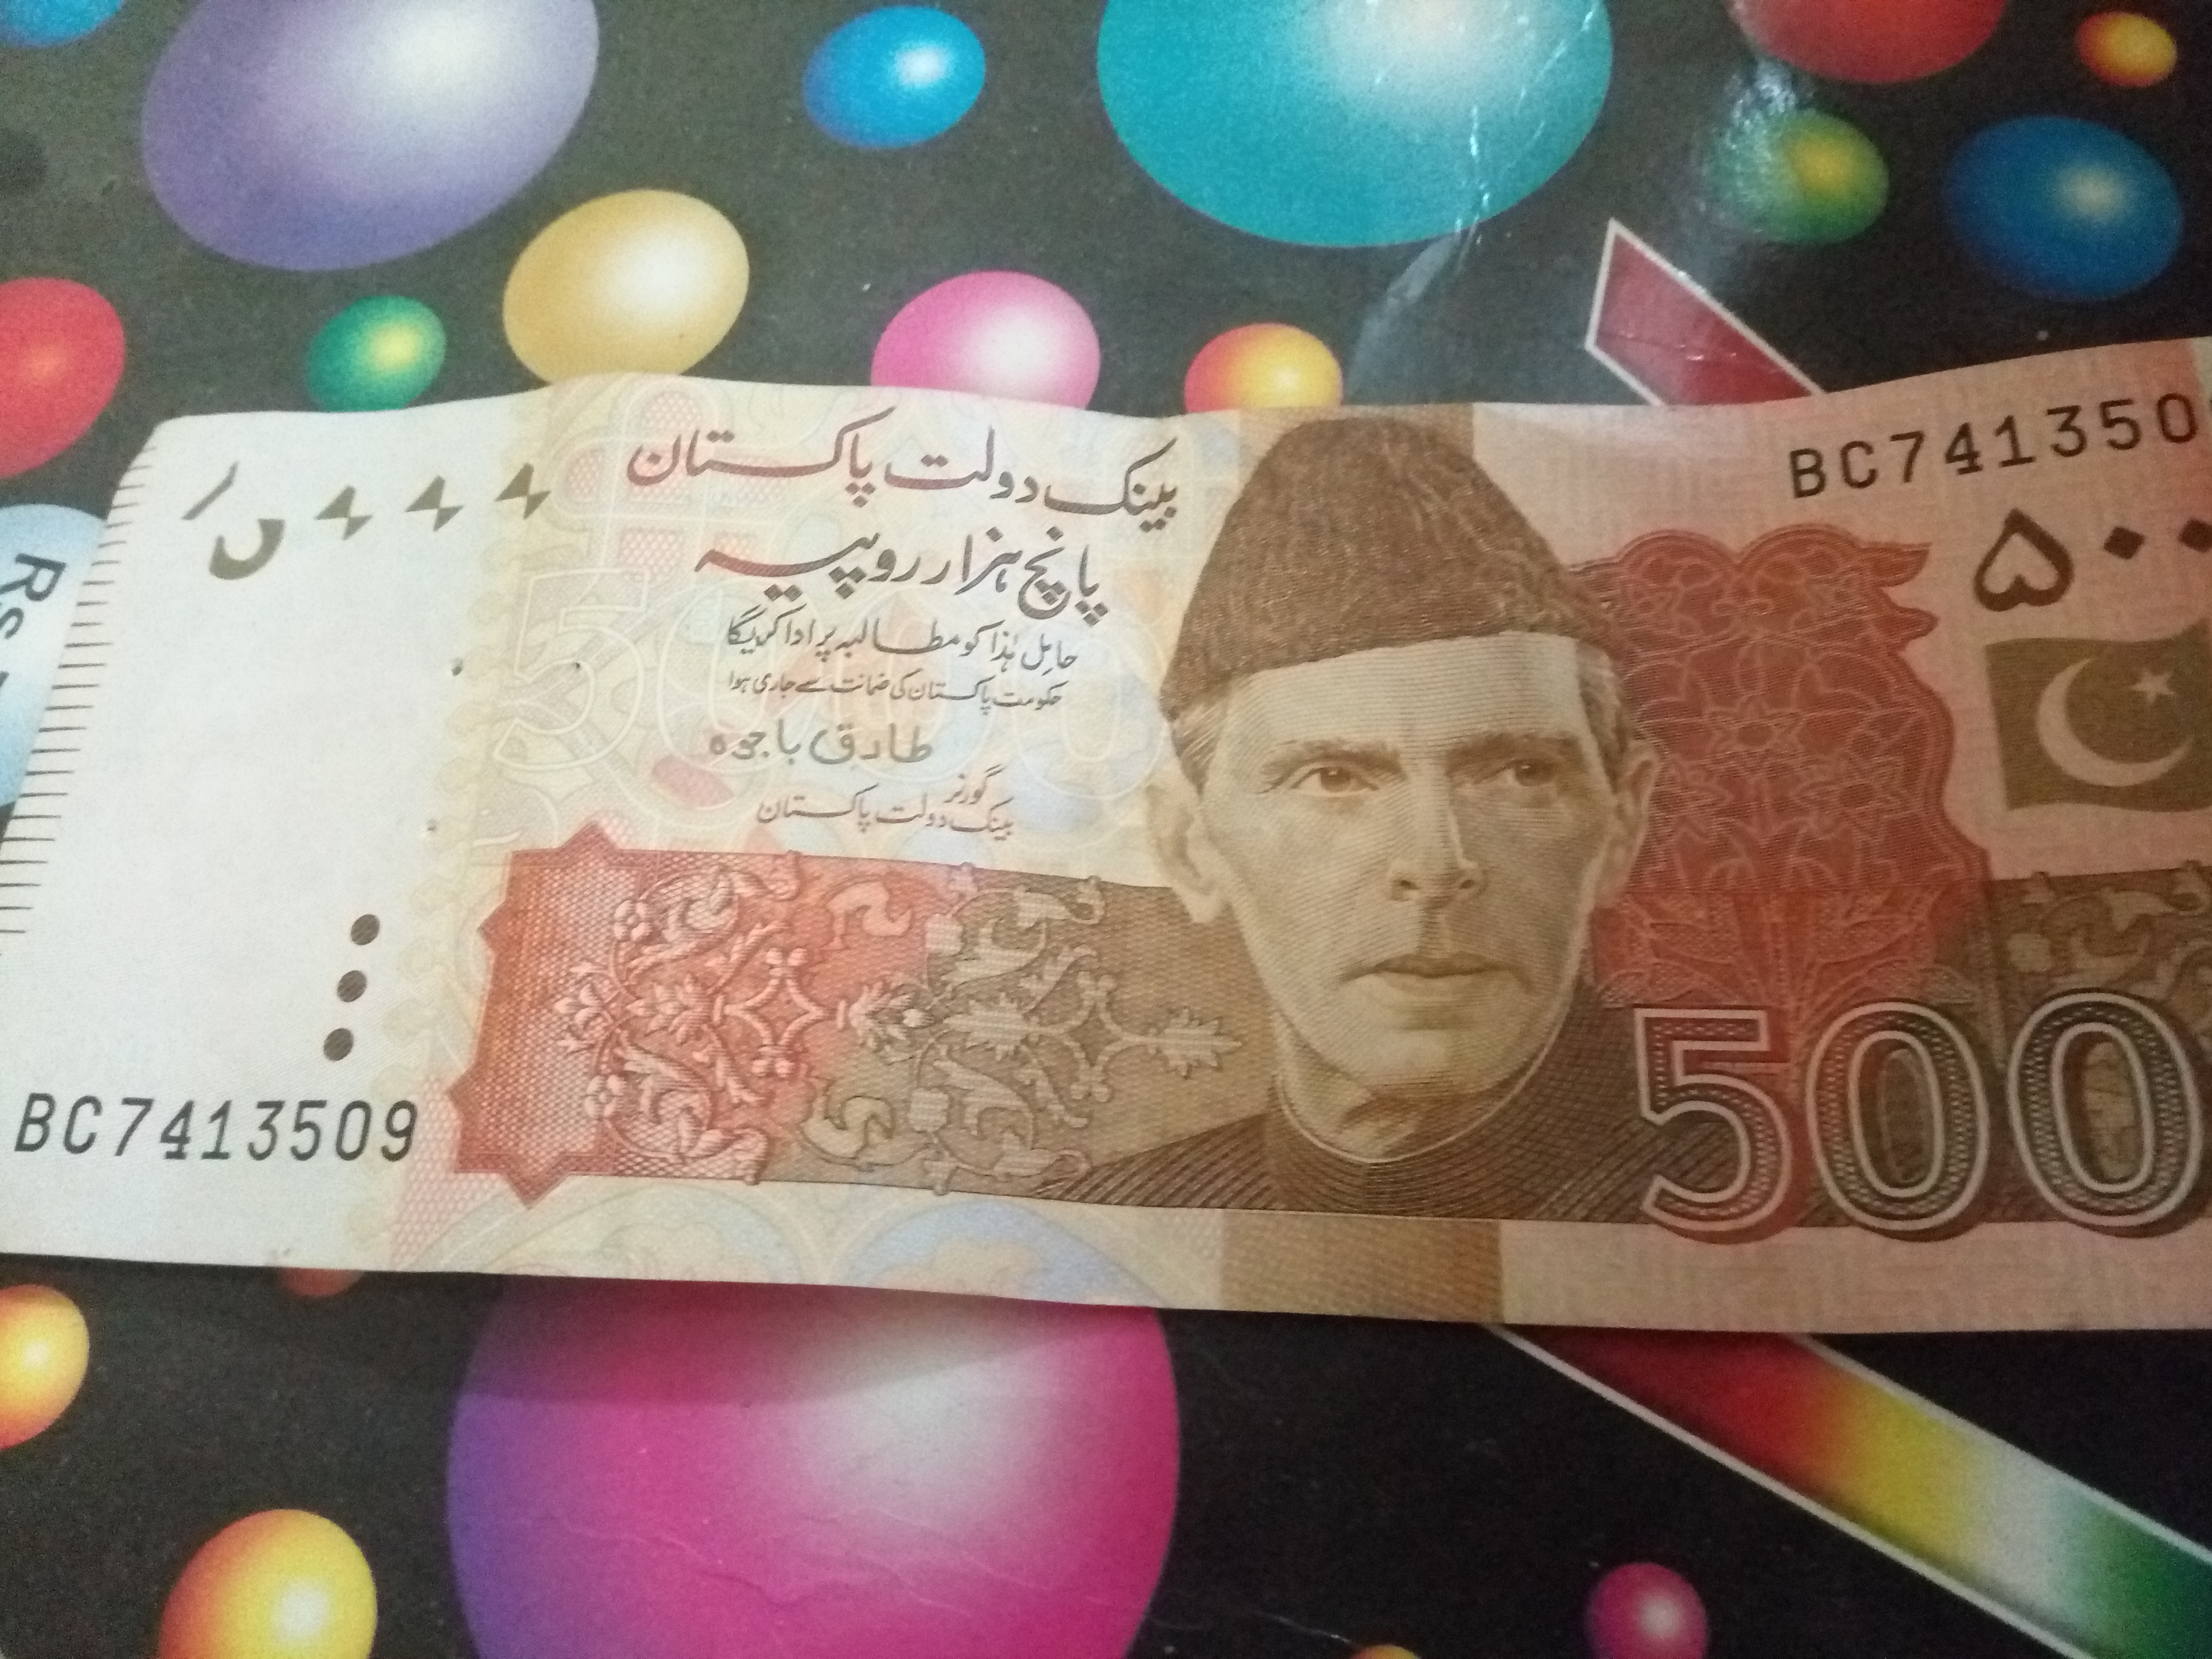5000 rupee: (89, 349, 2212, 1493)
